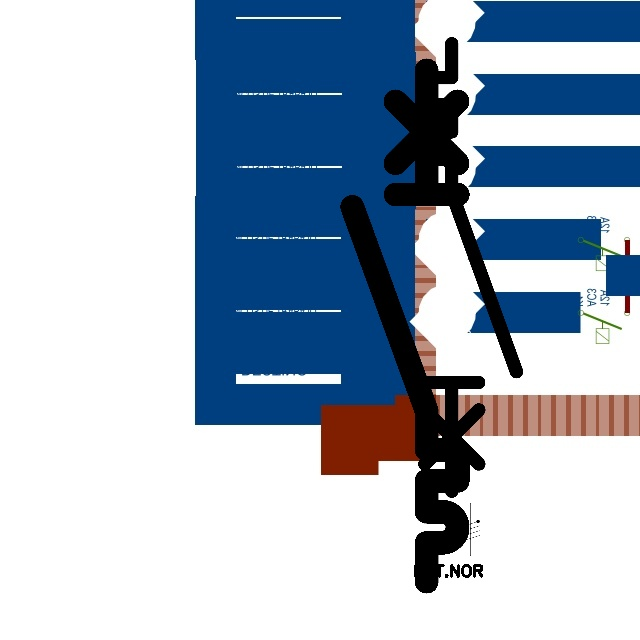interruptor_termomagnetico: (339, 57, 471, 595), (413, 32, 528, 502)
